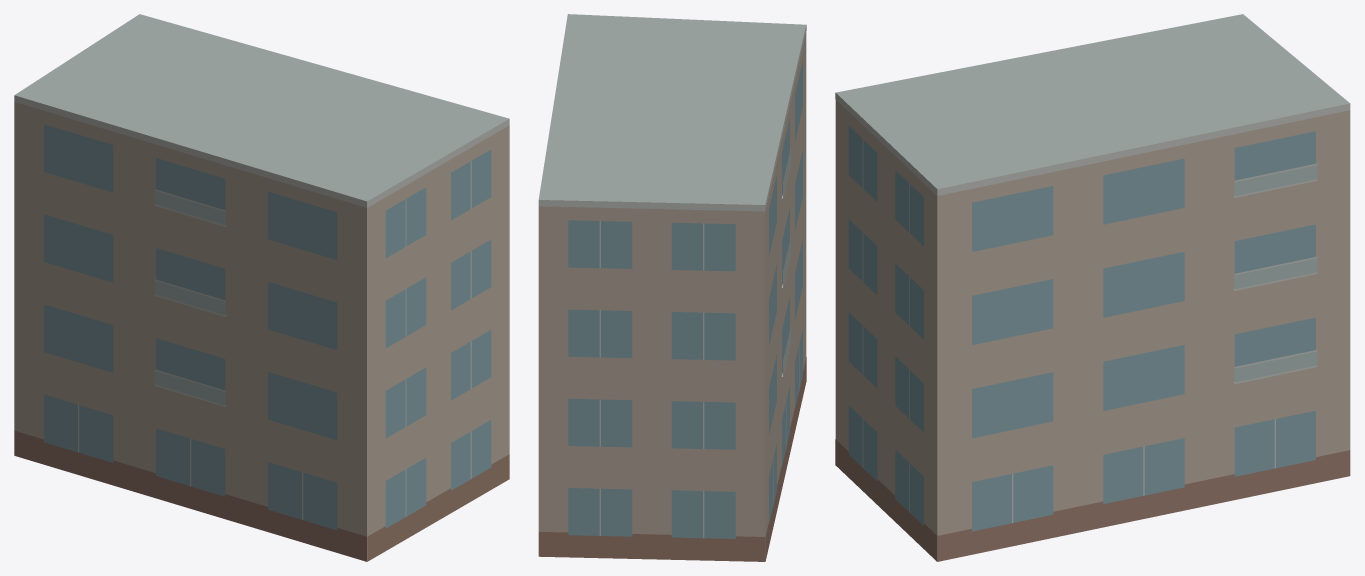
File: survey-upis-32726826.glb
The picture shows the model from 3 angles, left to right: view 1: azimuth 30°, elevation 25°; view 2: azimuth 150°, elevation 25°; view 3: azimuth 270°, elevation 25°; orthographic projection. The views are drawn at different scales.
Parts seen in each view (by area): view 1: survey-upis-32726826.tmp; view 2: survey-upis-32726826.tmp; view 3: survey-upis-32726826.tmp.
Part boxes in pixels (bbox=[...]): survey-upis-32726826.tmp: bbox=[14, 14, 509, 561]; survey-upis-32726826.tmp: bbox=[538, 14, 806, 561]; survey-upis-32726826.tmp: bbox=[835, 14, 1350, 561].
Size of the model in its own units: 13.63 by 13.5 by 16.91.
